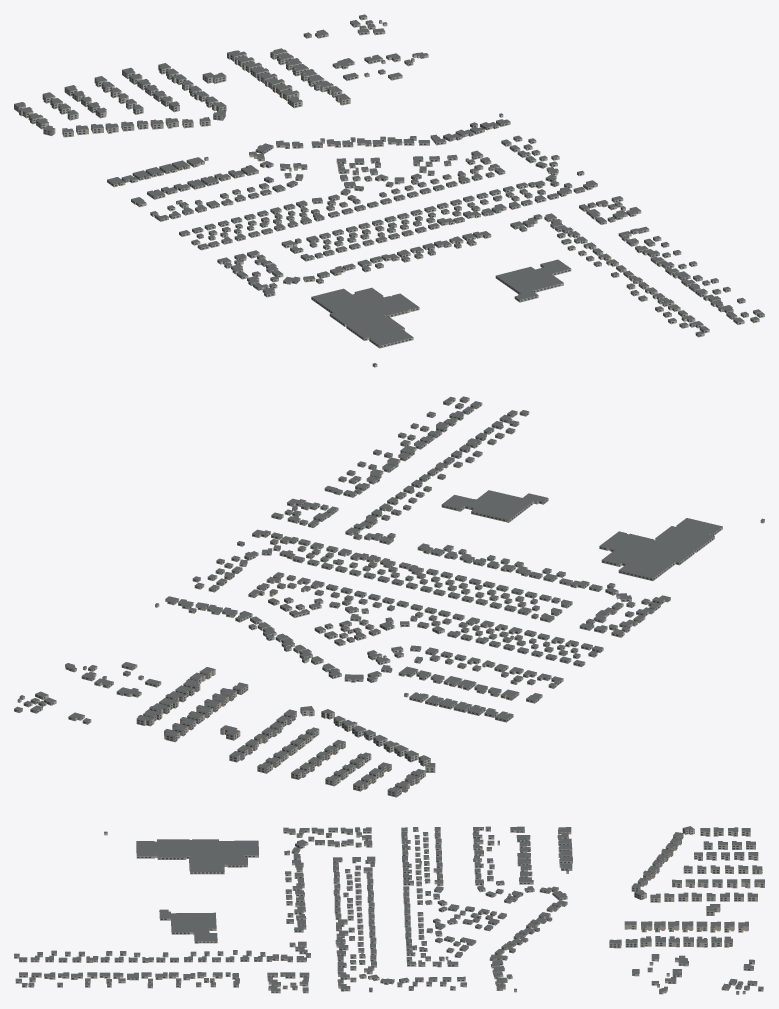
3 views of the same model, one above another, from view 1: azimuth 30°, elevation 25°; view 2: azimuth 150°, elevation 25°; view 3: azimuth 270°, elevation 25° (orthographic). The views are drawn at different scales.
Visible parts, largest first — view 1: Buildings (1, -7) Roof membrane, Buildings (1, -7) Masonry brick, Buildings (1, -7) Architectural tinted glass, Buildings (1, -7) Metal coping; view 2: Buildings (1, -7) Roof membrane, Buildings (1, -7) Masonry brick, Buildings (1, -7) Architectural tinted glass, Buildings (1, -7) Metal coping; view 3: Buildings (1, -7) Roof membrane, Buildings (1, -7) Masonry brick, Buildings (1, -7) Architectural tinted glass, Buildings (1, -7) Metal coping.
Part boxes in pixels (<box>): Buildings (1, -7) Roof membrane: <box>14,14,764,364</box>; Buildings (1, -7) Masonry brick: <box>14,16,764,367</box>; Buildings (1, -7) Architectural tinted glass: <box>14,17,762,347</box>; Buildings (1, -7) Metal coping: <box>17,14,762,345</box>; Buildings (1, -7) Roof membrane: <box>14,396,764,791</box>; Buildings (1, -7) Masonry brick: <box>14,398,764,797</box>; Buildings (1, -7) Architectural tinted glass: <box>14,400,720,795</box>; Buildings (1, -7) Metal coping: <box>14,396,764,790</box>; Buildings (1, -7) Roof membrane: <box>14,826,764,992</box>; Buildings (1, -7) Masonry brick: <box>14,827,764,994</box>; Buildings (1, -7) Architectural tinted glass: <box>14,828,763,993</box>; Buildings (1, -7) Metal coping: <box>19,826,761,992</box>.
Size of the model in its own units: 515 by 9.94 by 989.
